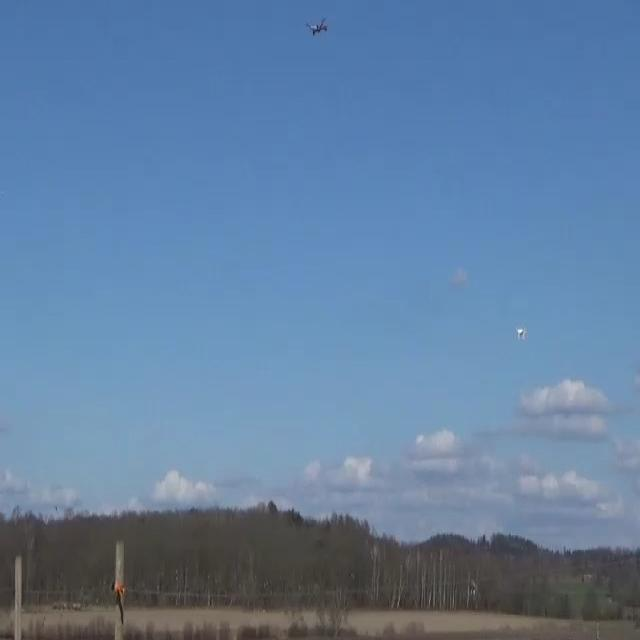drone: (305, 16, 327, 35), (516, 324, 529, 341)
